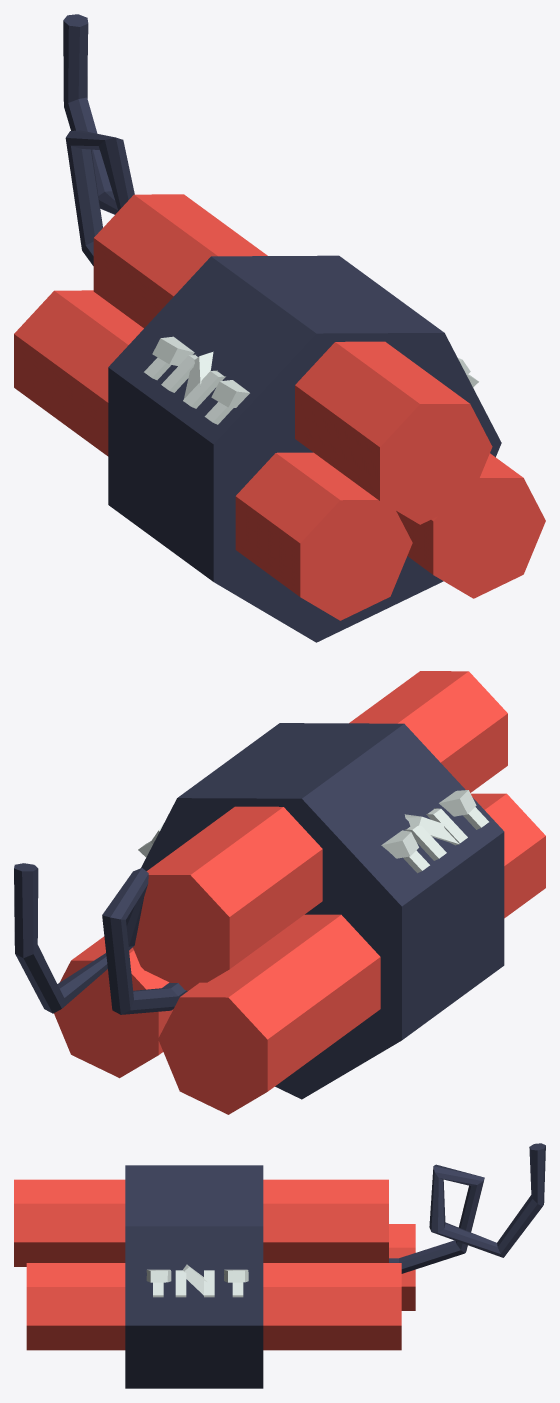
The model's file is tnt.fbx.
The picture shows the model from 3 angles, top to bottom: view 1: azimuth 30°, elevation 25°; view 2: azimuth 150°, elevation 25°; view 3: azimuth 270°, elevation 25°; orthographic projection. The views are drawn at different scales.
Parts seen in each view (by area): view 1: TNT; view 2: TNT; view 3: TNT.
Boxes of the visible parts, x1=… form: TNT: x1=14, y1=14, x2=545, y2=642; TNT: x1=14, y1=671, x2=545, y2=1114; TNT: x1=14, y1=1143, x2=545, y2=1388.
Bounding box in the file's own units: 1.16 × 1.45 × 2.84.
